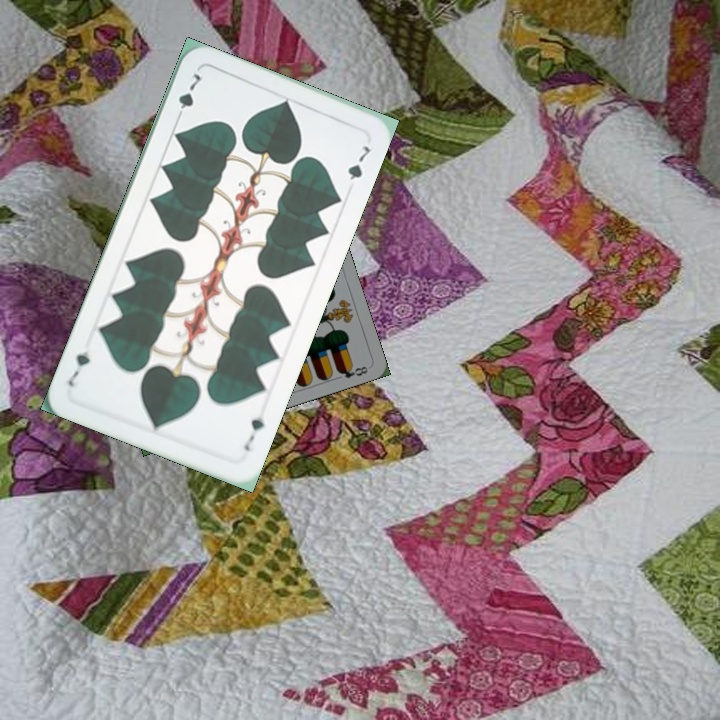G7: (172, 69, 204, 124), (240, 412, 267, 454)
